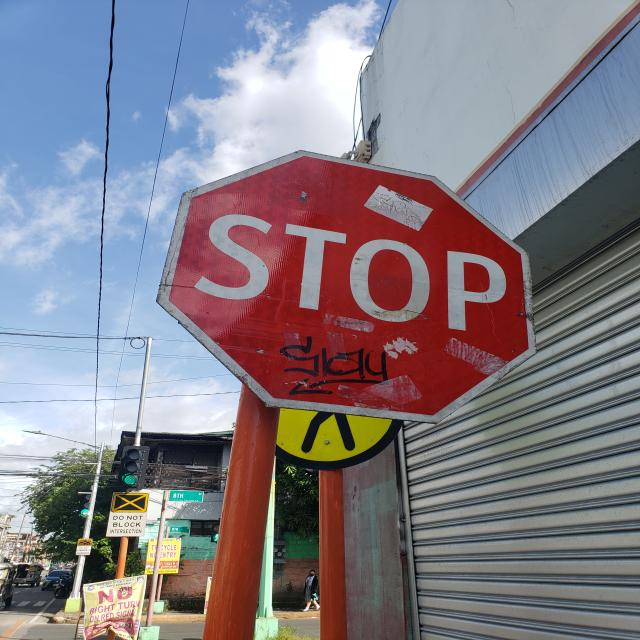stop-sign: (155, 148, 537, 425)
